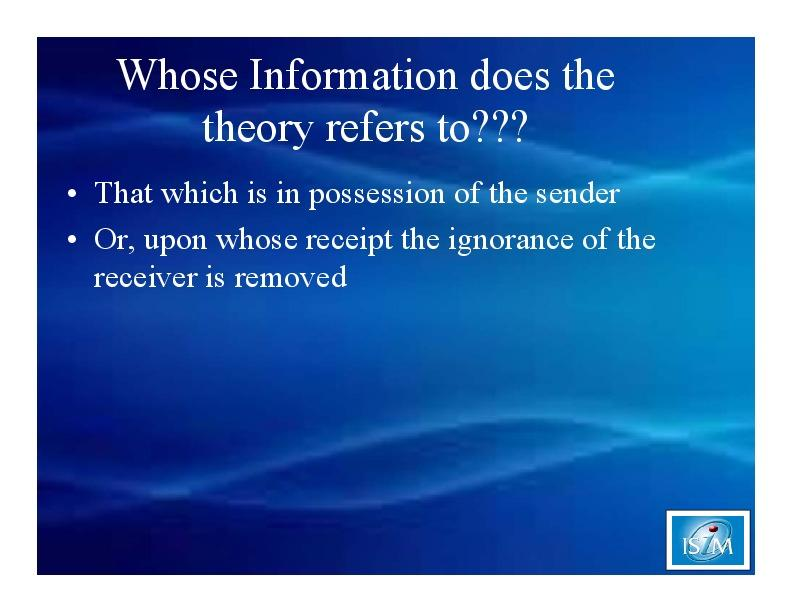paragraph: (57, 172, 668, 309)
title: (112, 47, 650, 159)
